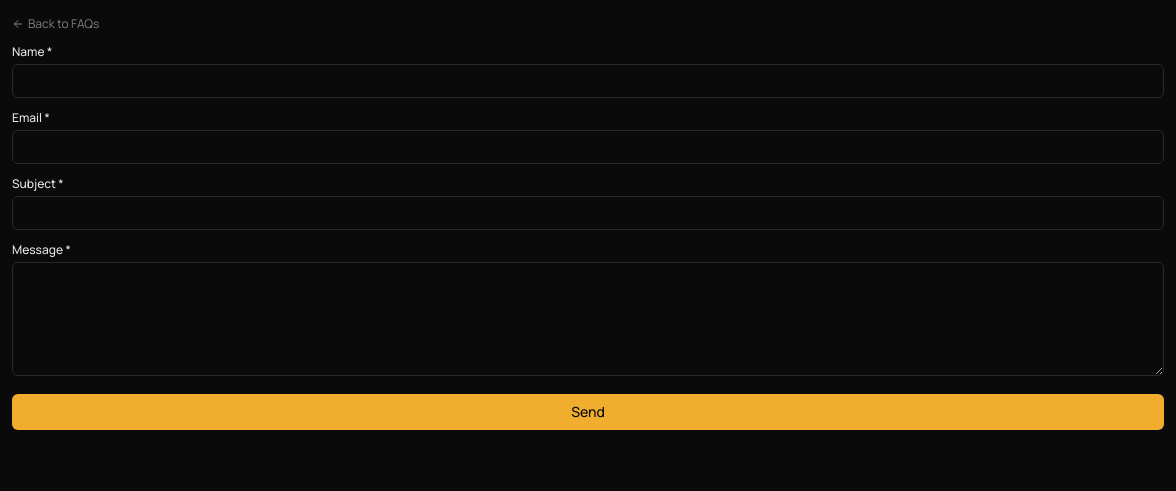
Test: ContactForm › rate-limit message on 429
Type "Sat" into the field labelled "Name *".
click(588, 81); type("Sat")  # box [12,64,1164,98]
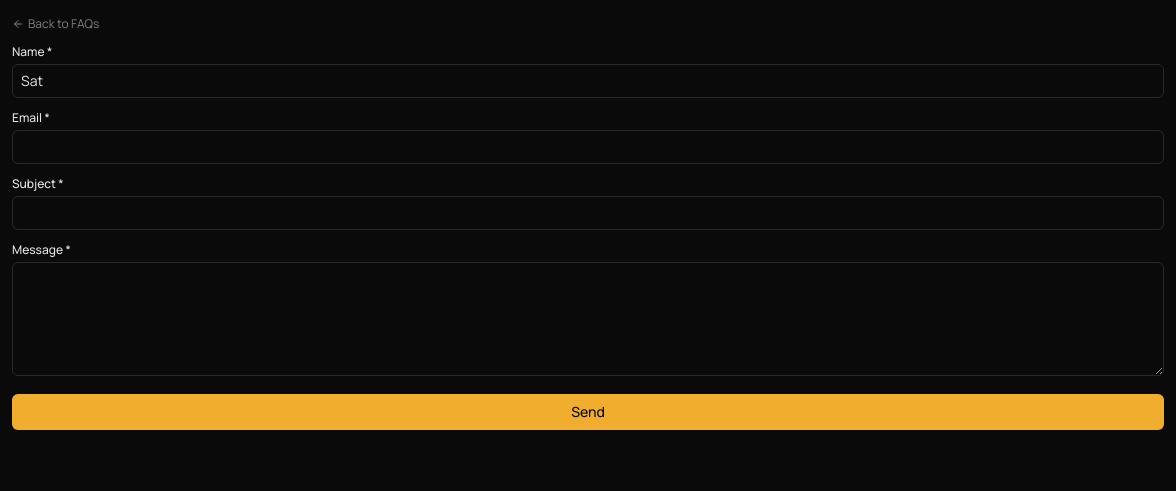
Type "sat@example.com" into the field labelled "Email *".
click(588, 147); type("sat@example.com")  # box [12,130,1164,164]
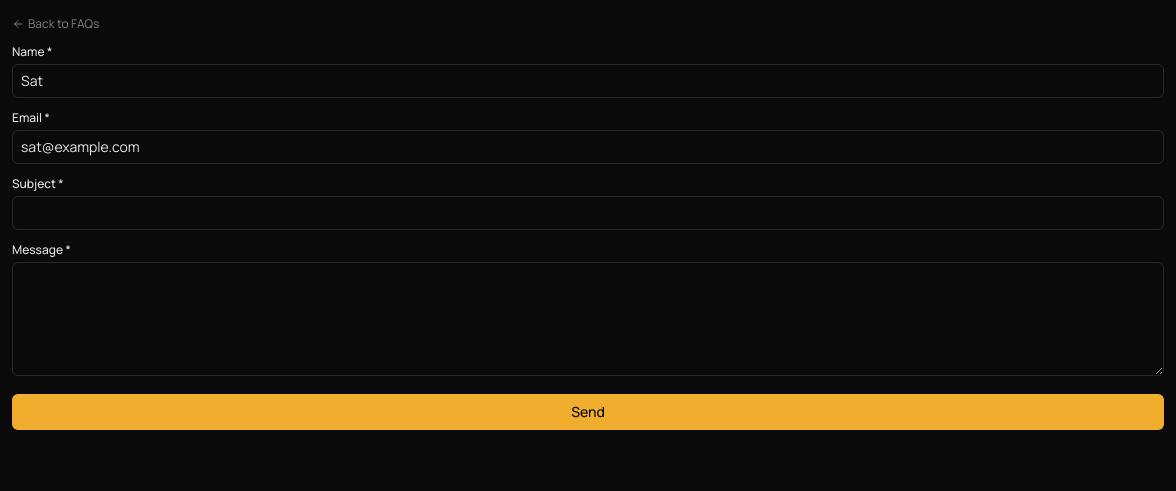
Type "Order Q" into the field labelled "Subject *".
click(588, 213); type("Order Q")  # box [12,196,1164,230]
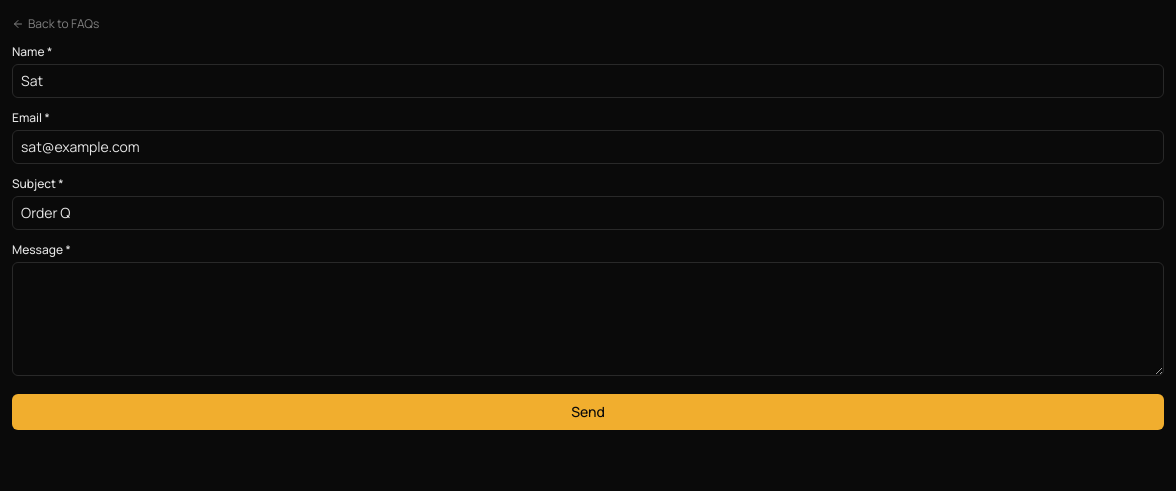
Type "Where is it?" into the text box labelled "Message *".
click(588, 319); type("Where is it?")  # box [12,262,1164,376]
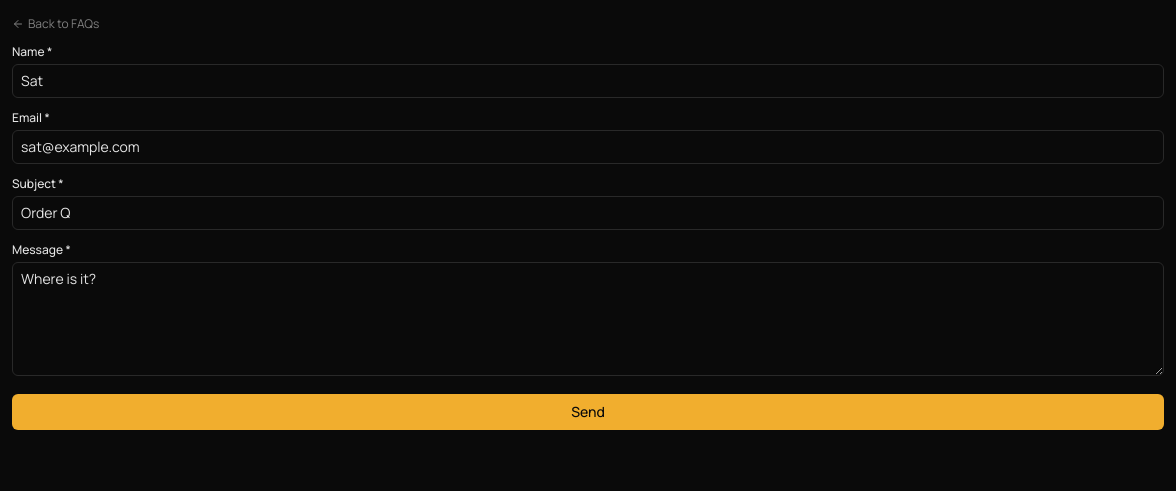
Click the button "Send".
click(588, 412)  # box [12,394,1164,430]
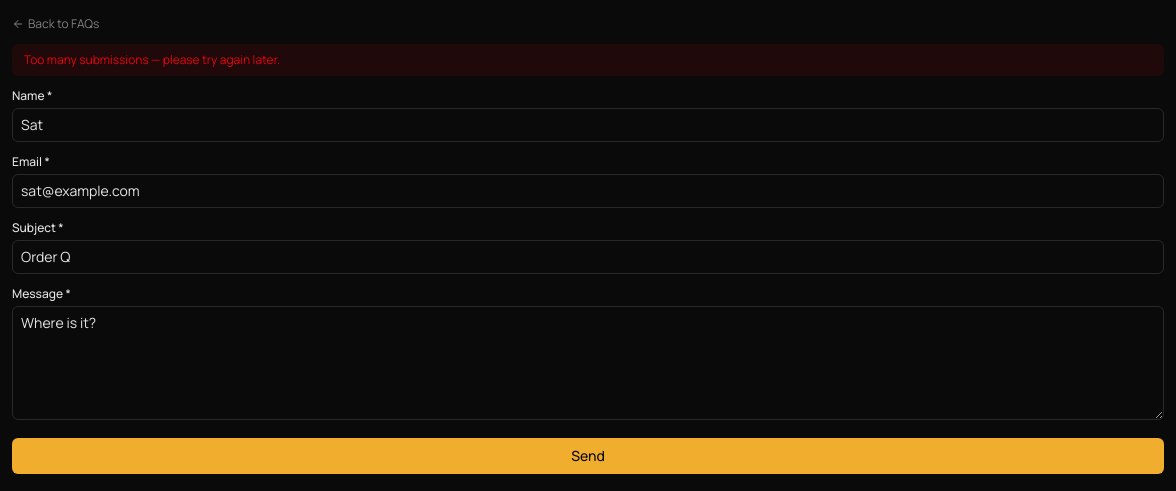
Expected: the text "Too many submissions — please try again later." is shown, [12,44,1164,76]
